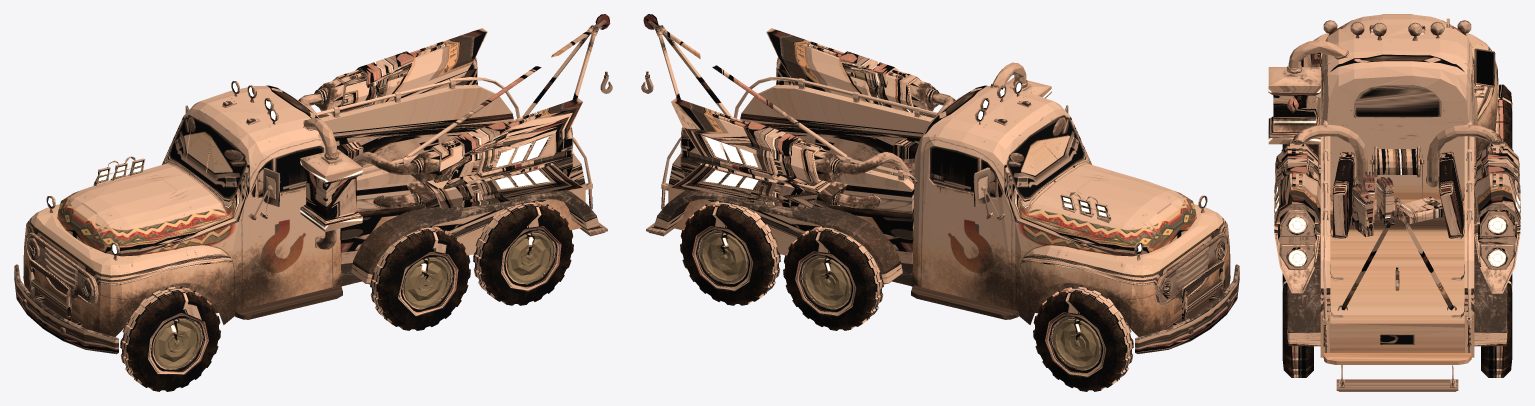
The model's file is repair_vehicle.glb.
3 renders of one model, left to right at view 1: azimuth 30°, elevation 25°; view 2: azimuth 150°, elevation 25°; view 3: azimuth 270°, elevation 25°, orthographic. The views are drawn at different scales.
Parts seen in each view (by area): view 1: polySurface845_lambert1_0; view 2: polySurface845_lambert1_0; view 3: polySurface845_lambert1_0.
Boxes of the visible parts, box(x1,y1,x2,y2) form: polySurface845_lambert1_0: box(14, 14, 612, 391); polySurface845_lambert1_0: box(641, 14, 1239, 391); polySurface845_lambert1_0: box(1268, 14, 1520, 391).
Size of the model in its own units: 1 by 0.3835 by 0.3666.
1 material, 1 textured.
